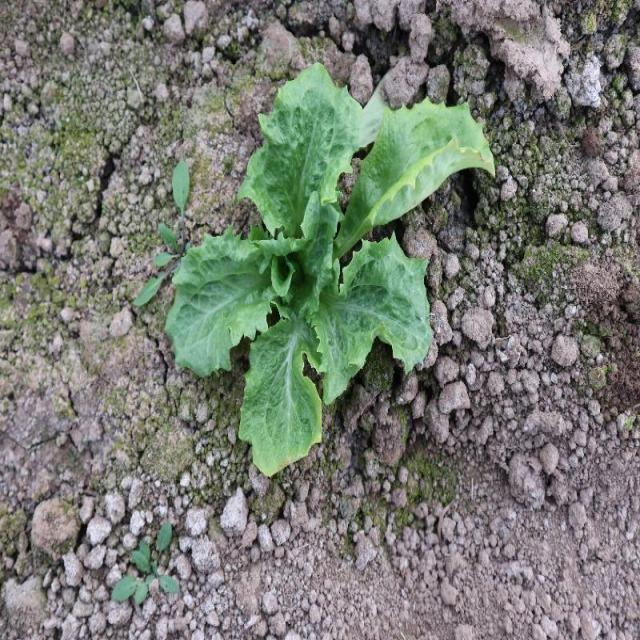crop: (167, 56, 437, 477)
